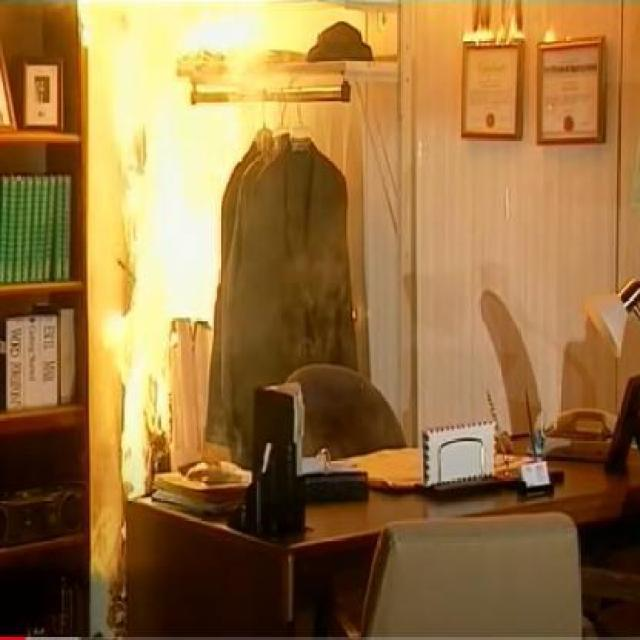Fire: (110, 0, 218, 322), (101, 306, 174, 359), (122, 364, 150, 494), (218, 1, 290, 49), (77, 0, 114, 48), (157, 354, 174, 434), (466, 24, 522, 41), (542, 32, 556, 42)
